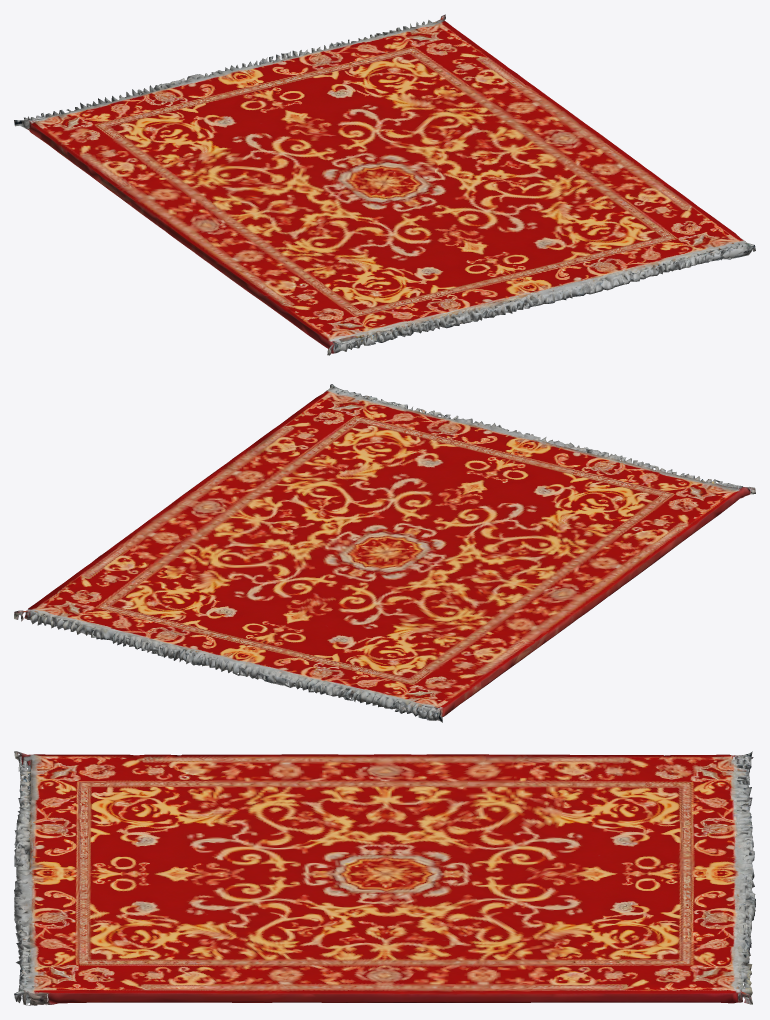
The model's file is Meshy_AI_An_elegant_antique_ca_0224030200_texture.glb.
3 renders of one model, top to bottom at view 1: azimuth 30°, elevation 25°; view 2: azimuth 150°, elevation 25°; view 3: azimuth 270°, elevation 25°, orthographic. The views are drawn at different scales.
Bounding box in the file's own units: 1.58 × 0.0488 × 2.
1 material, 1 textured.
